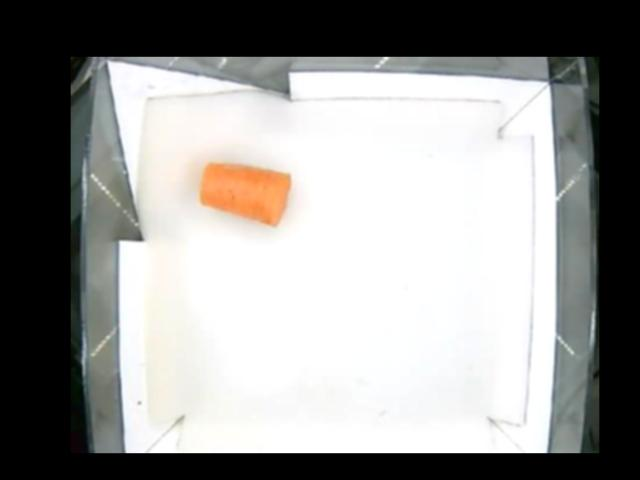Carrot: (199, 161, 295, 227)
